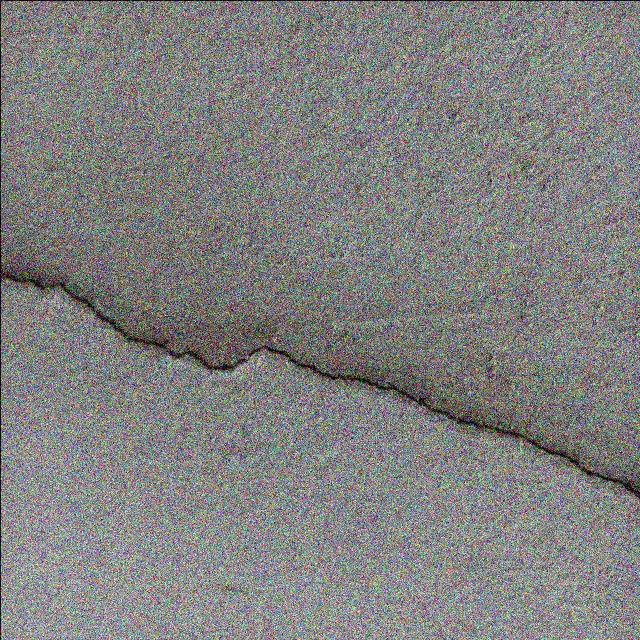SurfaceCrack: (0, 224, 639, 509)
